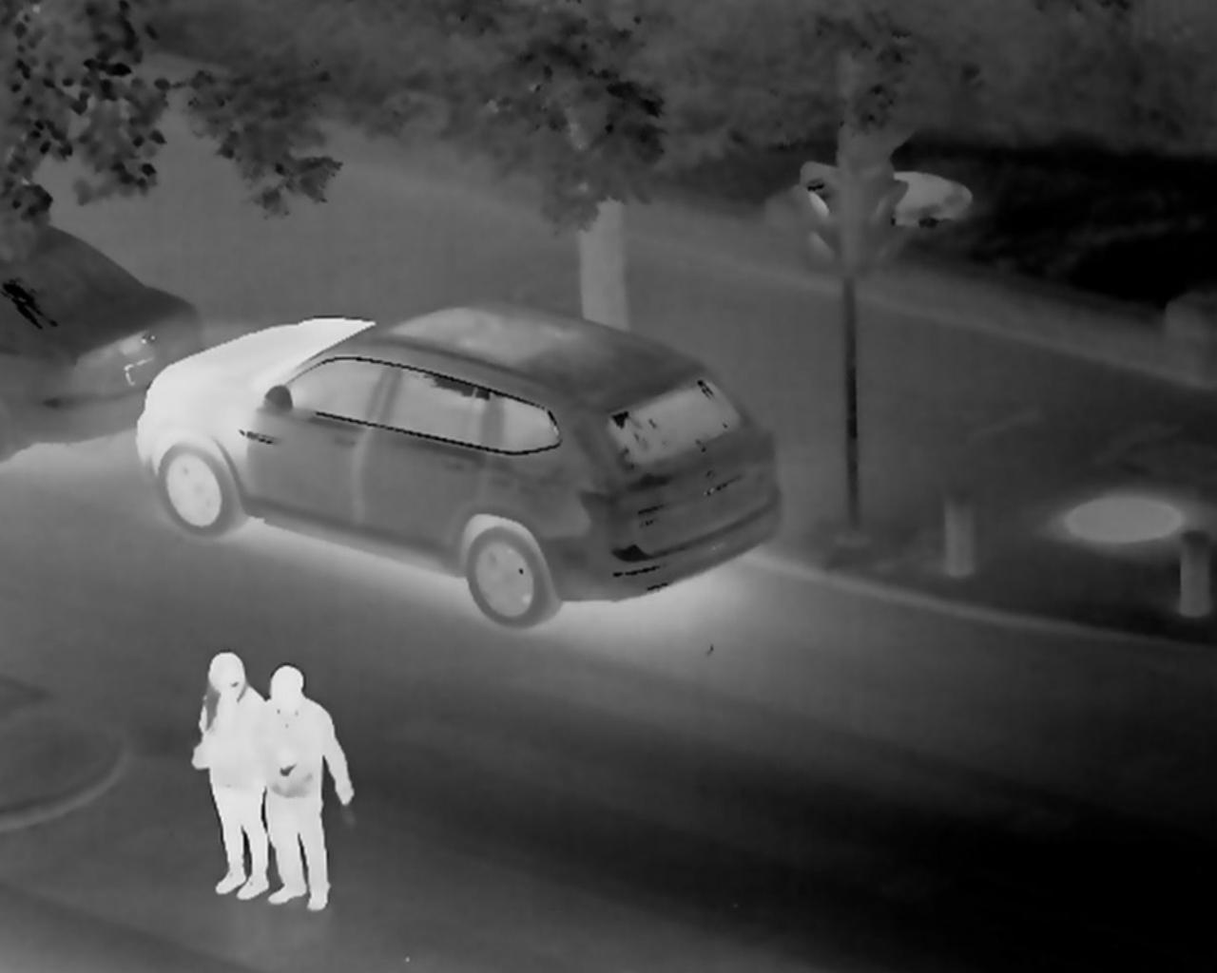person: (244, 664, 354, 914), (188, 649, 272, 902)
